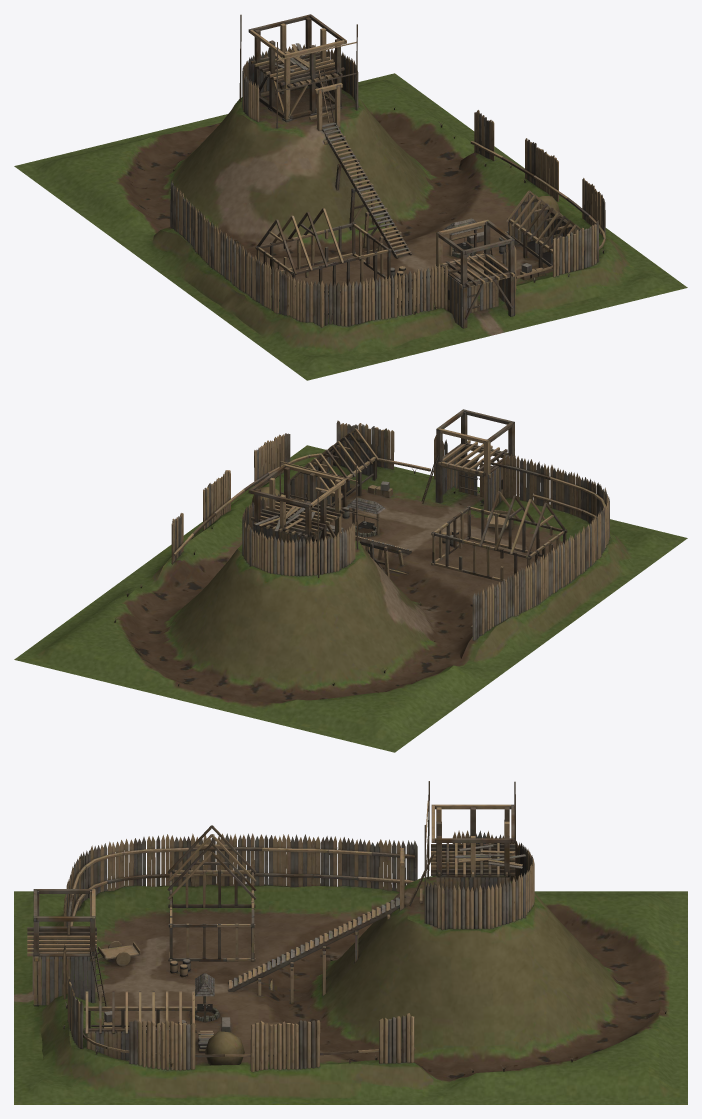
The model's file is motte_build2.glb.
3 renders of one model, top to bottom at view 1: azimuth 30°, elevation 25°; view 2: azimuth 150°, elevation 25°; view 3: azimuth 270°, elevation 25°, orthographic. The views are drawn at different scales.
Visible parts, largest first — view 1: motte_build2_LOD0; view 2: motte_build2_LOD0; view 3: motte_build2_LOD0.
Part boxes in pixels (box(x1,y1,x2,y2)): motte_build2_LOD0: box(14, 14, 687, 380); motte_build2_LOD0: box(14, 409, 687, 752); motte_build2_LOD0: box(14, 781, 687, 1104).
Size of what is drawn, in the model's own units: 36 by 15.3 by 48.
1 material, 1 textured.
